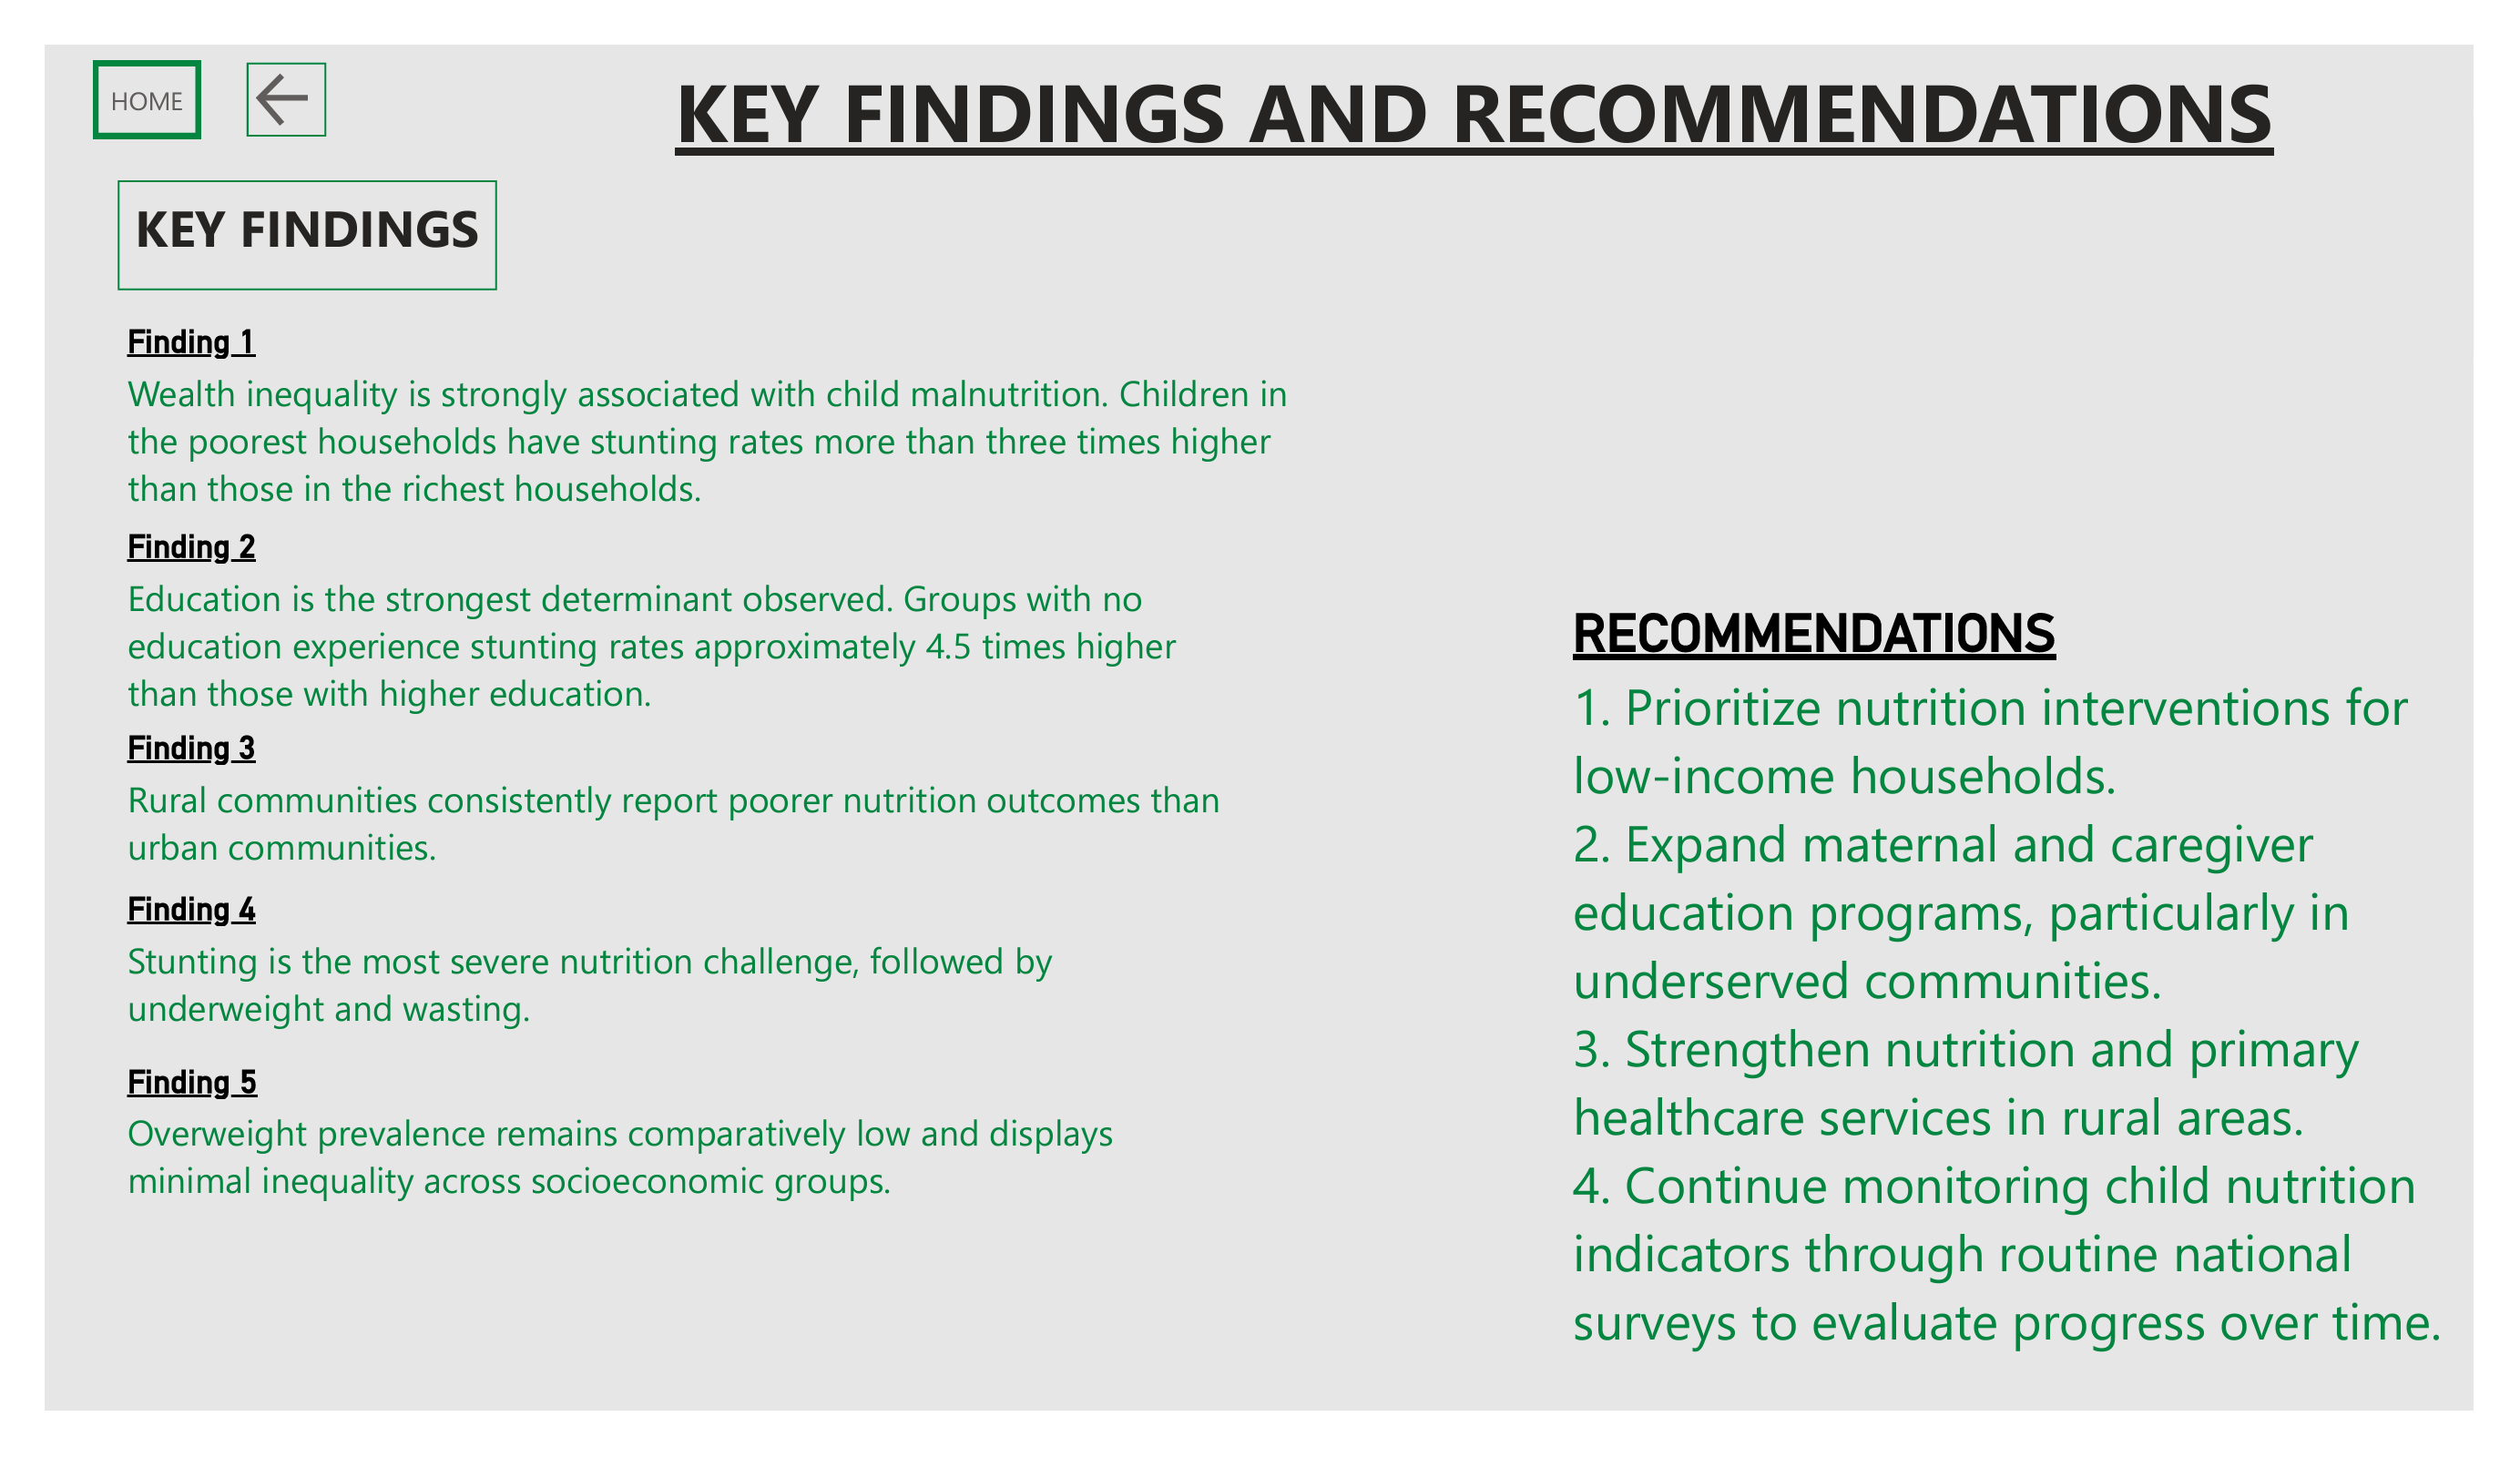

Layout of this report page (visuals, bound fields, positions):
{"tool":"powerbi","page":{"name":"KEY FINDINGS AND RECOMMENDATAIONS","canvas":[1280,720],"ordinal":4},"visuals":[{"type":"textbox","box":[284.7,0,936.2,84.7],"z":0},{"type":"textbox","box":[38,71.2,200,57.7],"z":1000},{"type":"textbox","title":"Finding 1","box":[38,146,627,108],"z":2000},{"type":"textbox","title":"Finding 5","box":[38,536.2,542.3,121.5],"z":3000},{"type":"textbox","title":"Finding 4","box":[38,445.4,542.3,79.8],"z":4000},{"type":"textbox","title":"Finding 3","box":[38,359.5,627,85.9],"z":5000},{"type":"textbox","title":"Finding 2","box":[38,254,602.5,105.5],"z":6000},{"type":"textbox","title":"RECOMMENDATIONS","box":[800,293.3,479.8,427],"z":7000},{"type":"actionButton","box":[105.8,8.8,42.6,39.7],"z":8000},{"type":"actionButton","box":[25,8.3,57,40.3],"z":9000}]}

Visuals, with their boxes on the page's 1280x720 design canvas (x1, y1, x2, y2). These are canvas units, not pixel positions in the 2520x1457 screenshot, which may show the page scaled, cropped or inside an application window:
textbox: (left=285, top=0, right=1221, bottom=85)
textbox: (left=38, top=71, right=238, bottom=129)
"Finding 1" textbox: (left=38, top=146, right=665, bottom=254)
"Finding 5" textbox: (left=38, top=536, right=580, bottom=658)
"Finding 4" textbox: (left=38, top=445, right=580, bottom=525)
"Finding 3" textbox: (left=38, top=360, right=665, bottom=445)
"Finding 2" textbox: (left=38, top=254, right=640, bottom=360)
"RECOMMENDATIONS" textbox: (left=800, top=293, right=1280, bottom=720)
actionButton: (left=106, top=9, right=148, bottom=48)
actionButton: (left=25, top=8, right=82, bottom=49)
